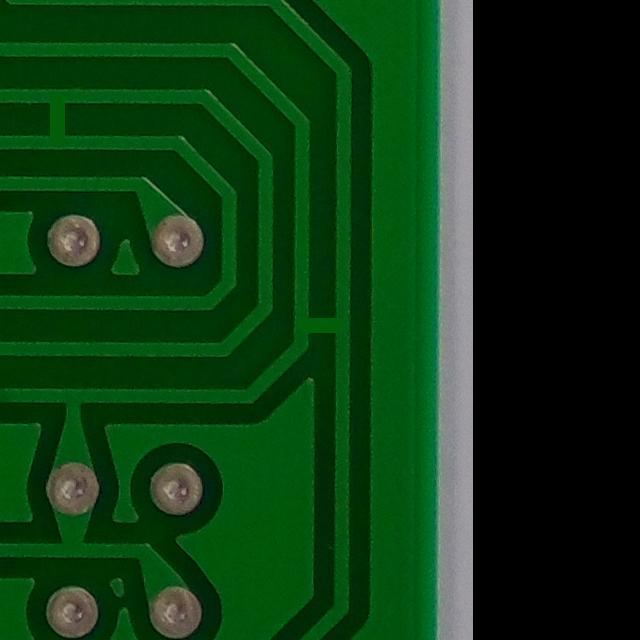short: (286, 298, 355, 342)
